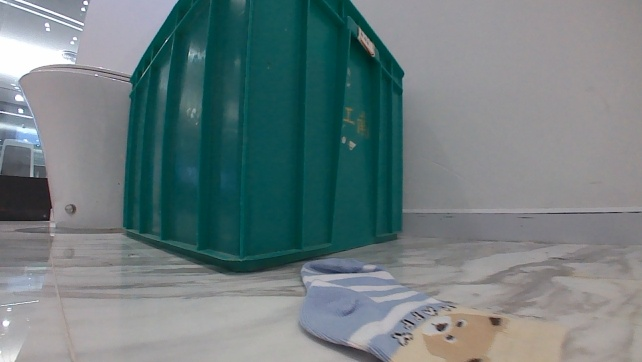socks: (292, 255, 566, 360)
toilet: (15, 61, 135, 232)
